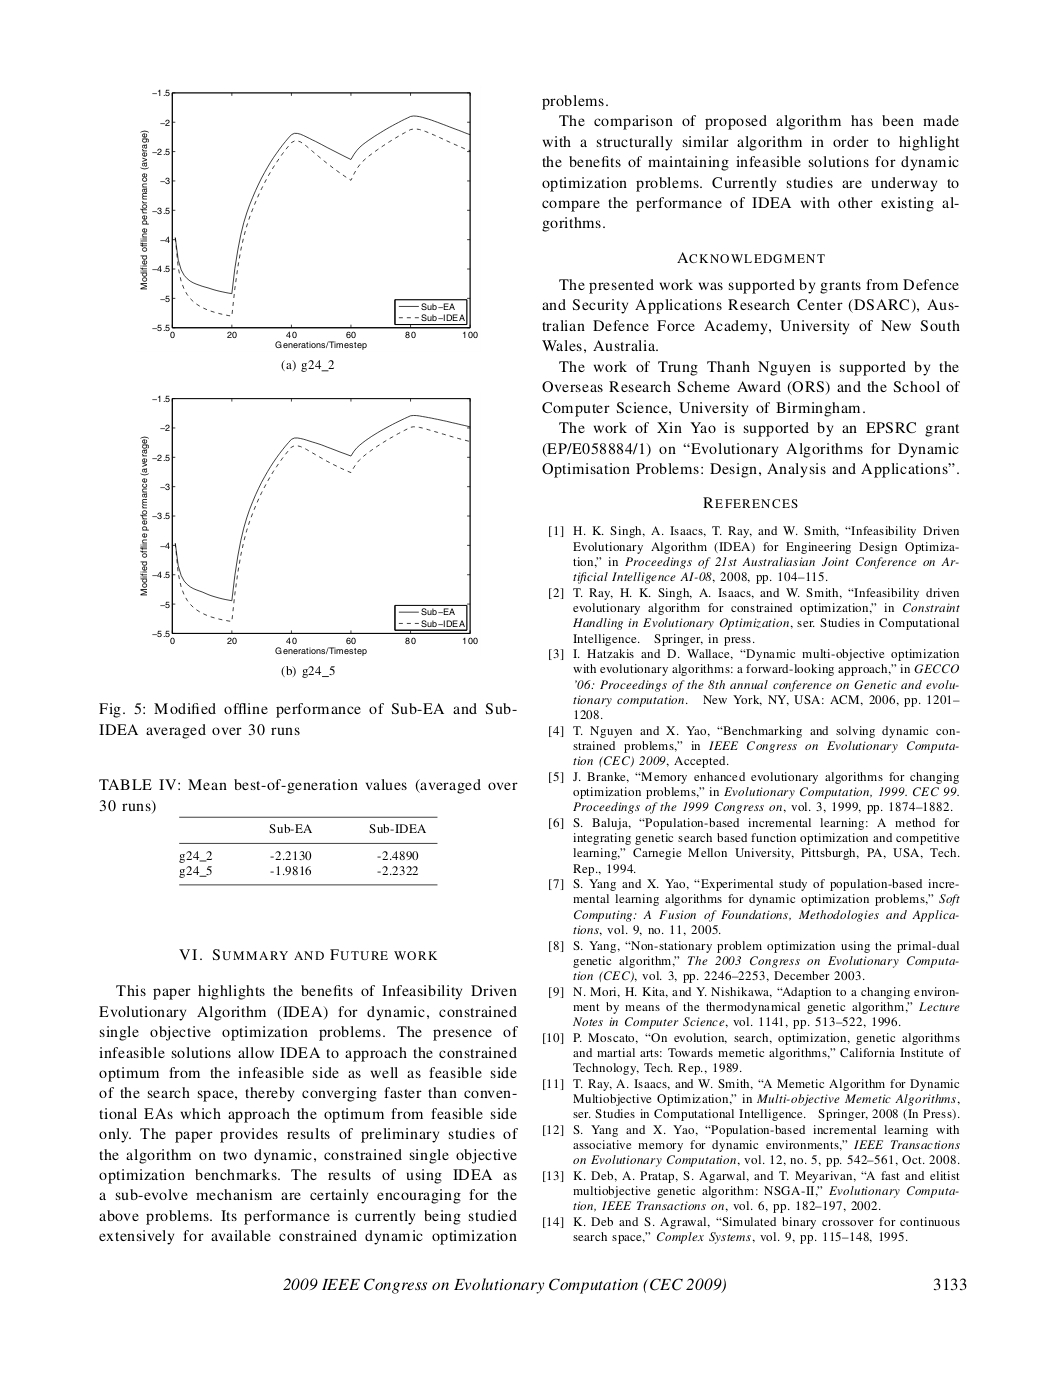Table: (179, 816, 437, 885)
figure: (140, 88, 477, 350), (140, 395, 477, 656)
